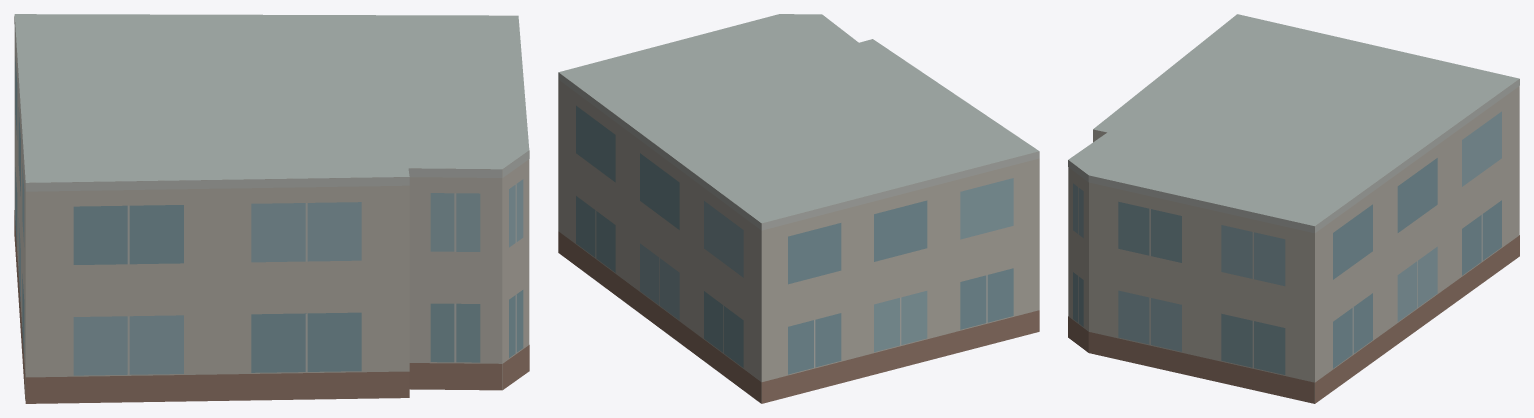
File: survey-upis-32794843.glb
3 views of the same model, side by side, from view 1: azimuth 30°, elevation 25°; view 2: azimuth 150°, elevation 25°; view 3: azimuth 270°, elevation 25° (orthographic). The views are drawn at different scales.
Visible parts, largest first — view 1: survey-upis-32794843.tmp; view 2: survey-upis-32794843.tmp; view 3: survey-upis-32794843.tmp.
Boxes of the visible parts, box(x1,y1,x2,y2) form: survey-upis-32794843.tmp: box(14, 14, 529, 403); survey-upis-32794843.tmp: box(558, 14, 1039, 403); survey-upis-32794843.tmp: box(1068, 14, 1519, 403).
Size of the model in its own units: 15.64 by 6.1 by 14.07.
